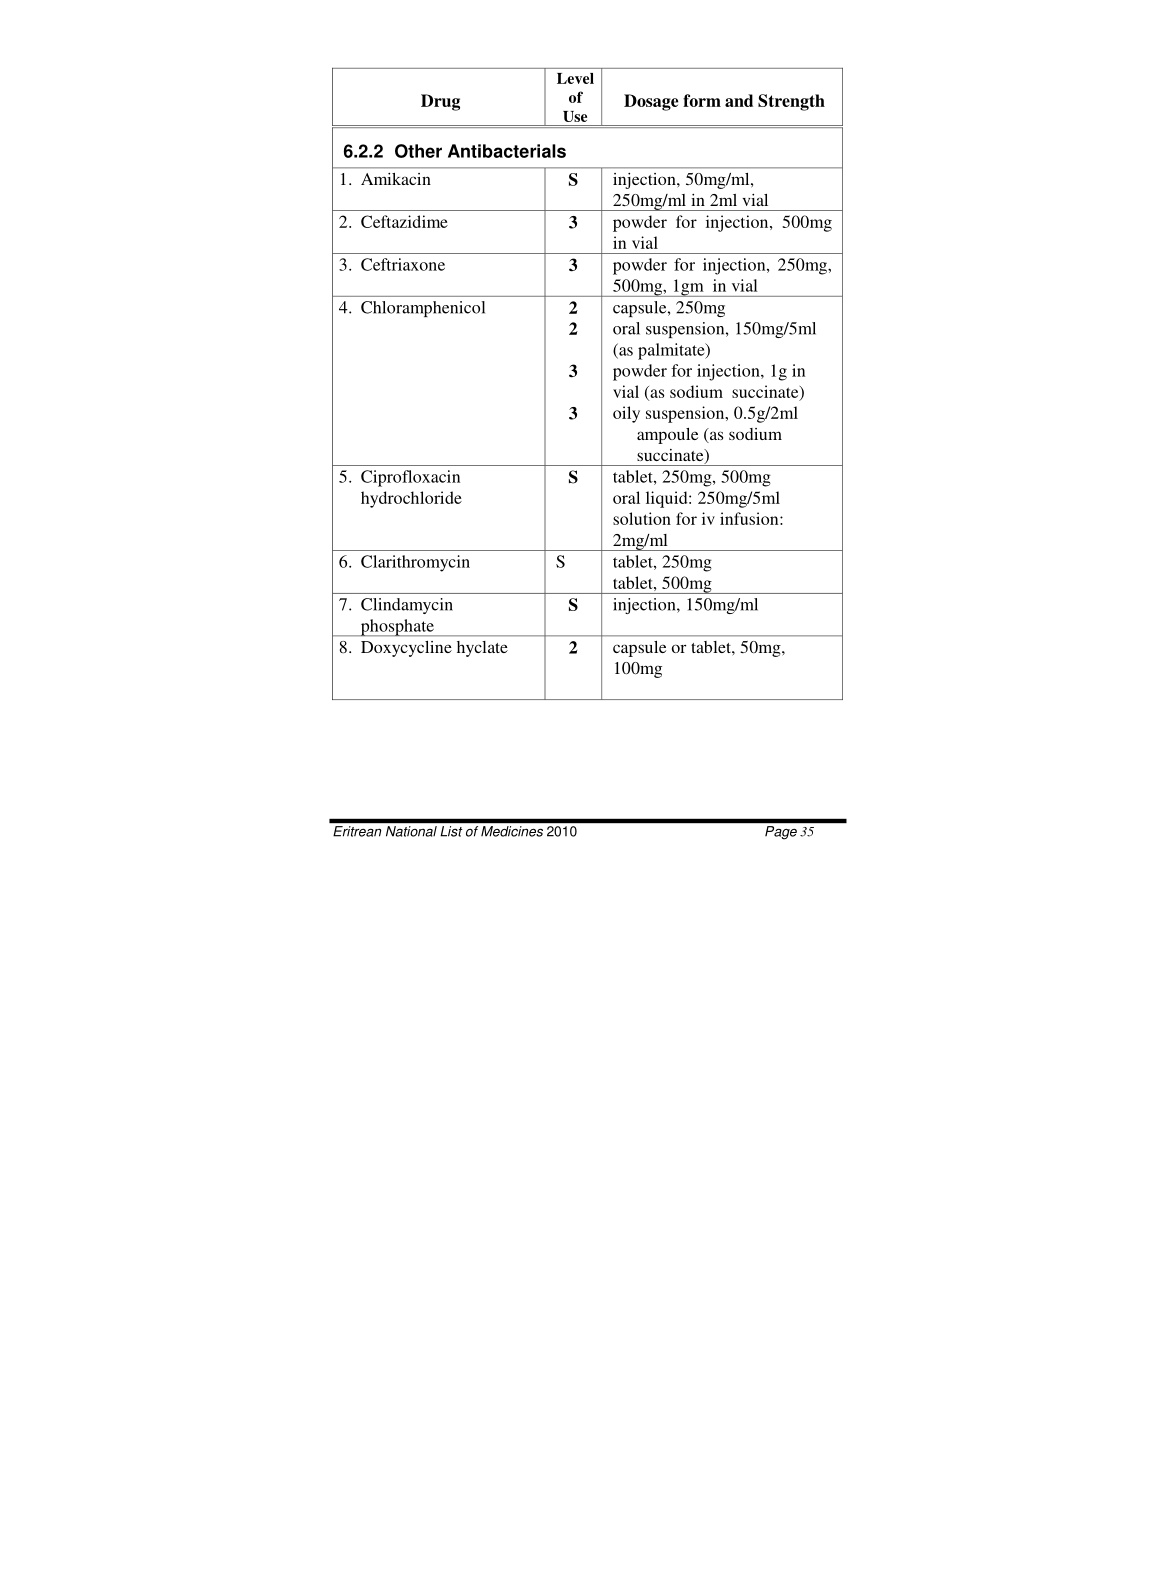merged_cells: (331, 67, 844, 701)
